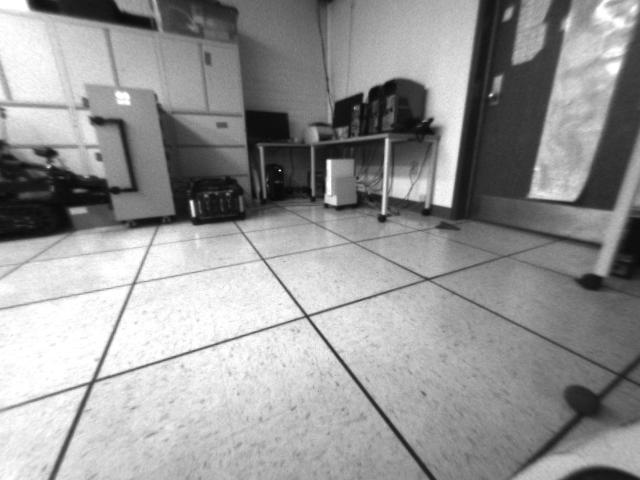dogtoy: (557, 374, 611, 423)
